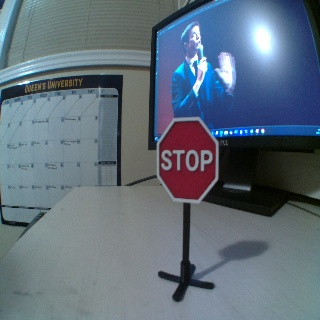sign_stop: (155, 119, 219, 201)
